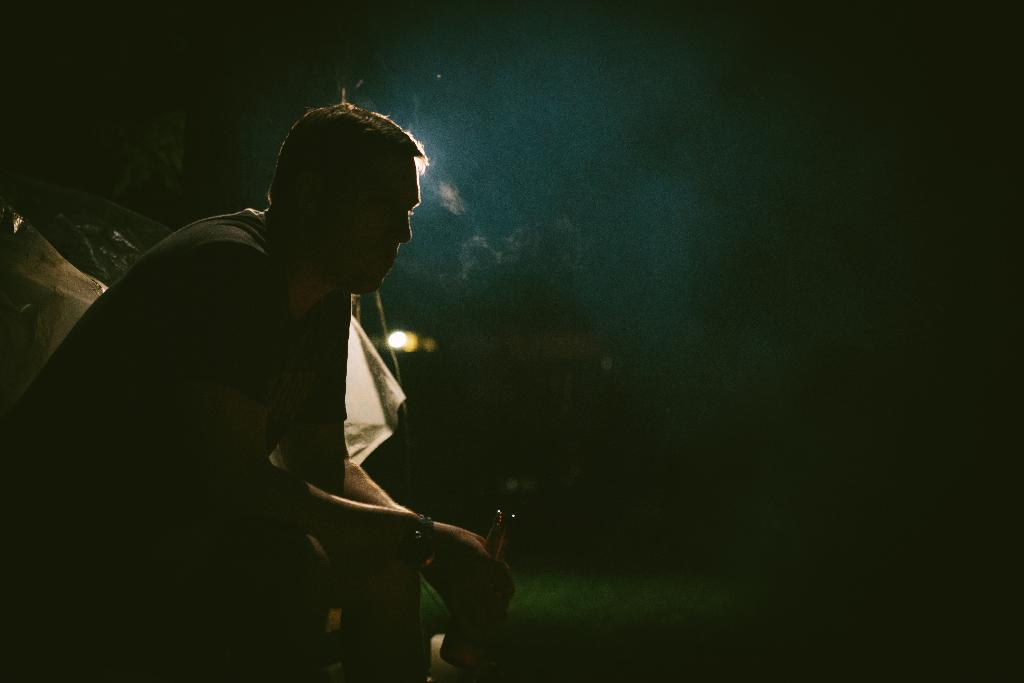face: (320, 139, 422, 286)
